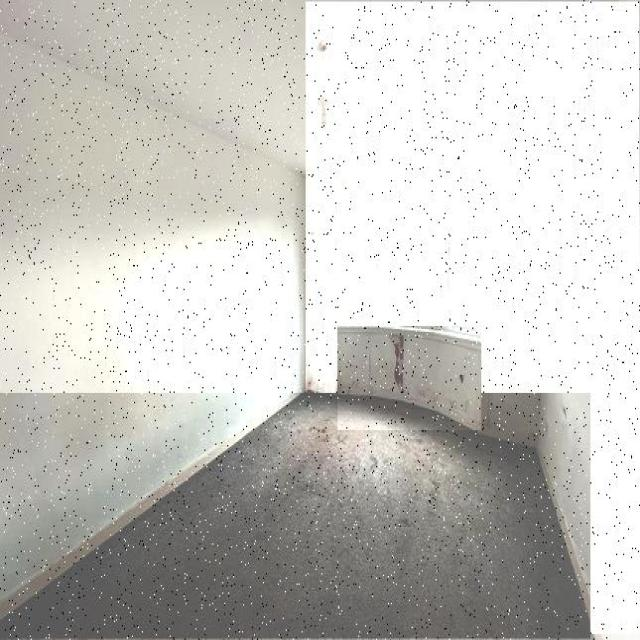Wall: (306, 2, 639, 634), (0, 32, 306, 618), (0, 393, 590, 639), (0, 0, 619, 170), (338, 326, 481, 430)
